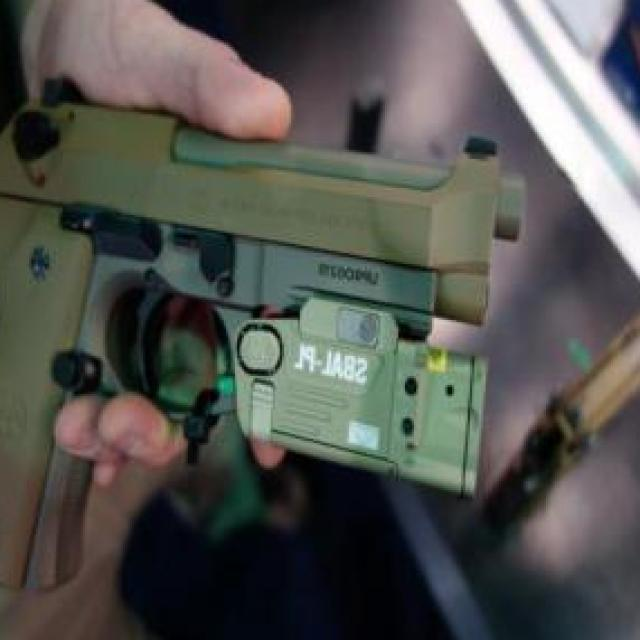pistol: (0, 76, 528, 593)
